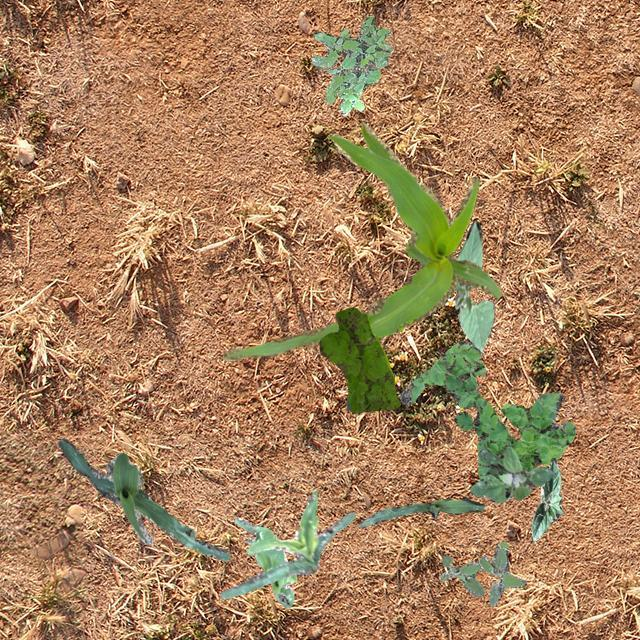crop: (221, 122, 501, 360), (58, 438, 230, 560), (220, 492, 354, 598), (233, 516, 296, 606), (452, 220, 493, 350), (356, 498, 484, 526), (530, 456, 562, 540)
weed: (398, 339, 574, 478), (318, 306, 399, 412), (310, 15, 392, 114), (438, 540, 526, 604), (470, 446, 554, 502)
